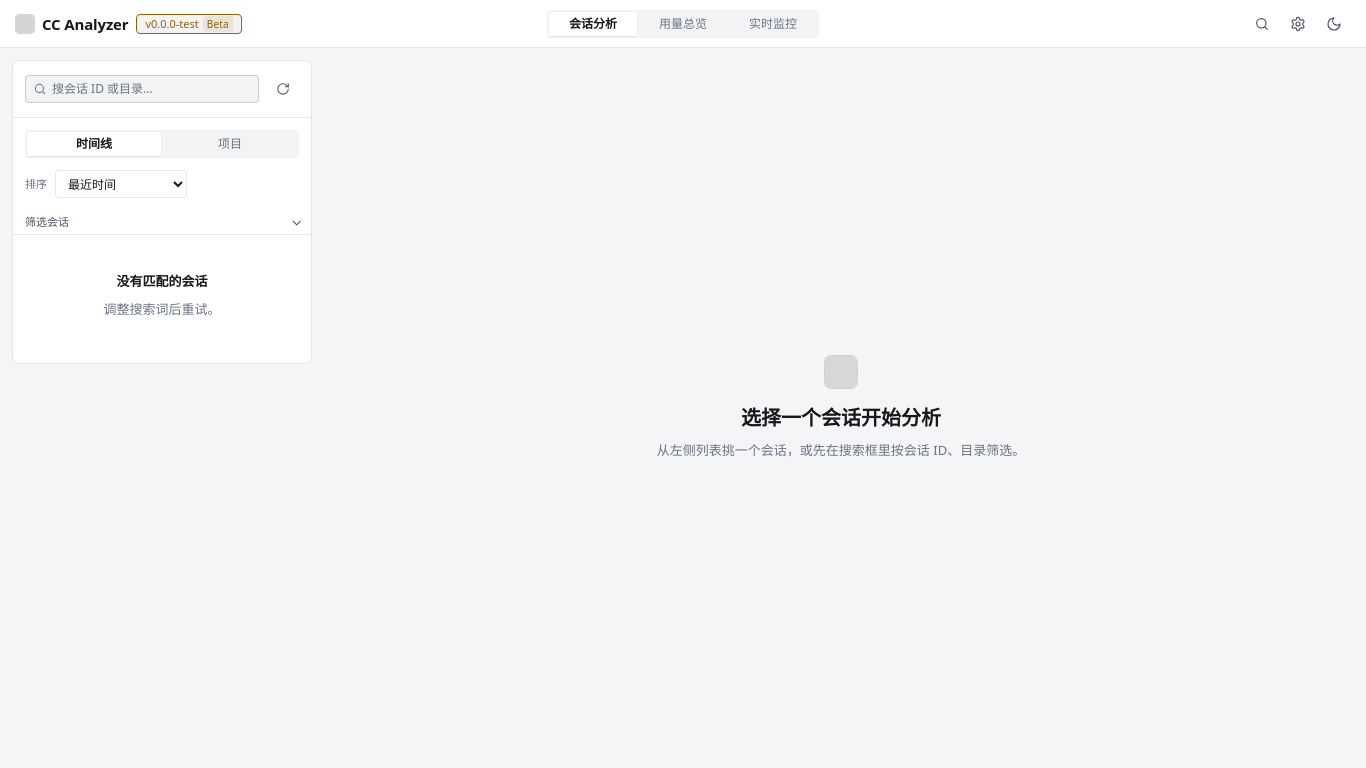
opens and closes the threshold settings panel
What coordinates should you click on to do the following:
click the button named "设置"
I would click on:
 (1298, 24)
Its box is [1282,8,1314,40].
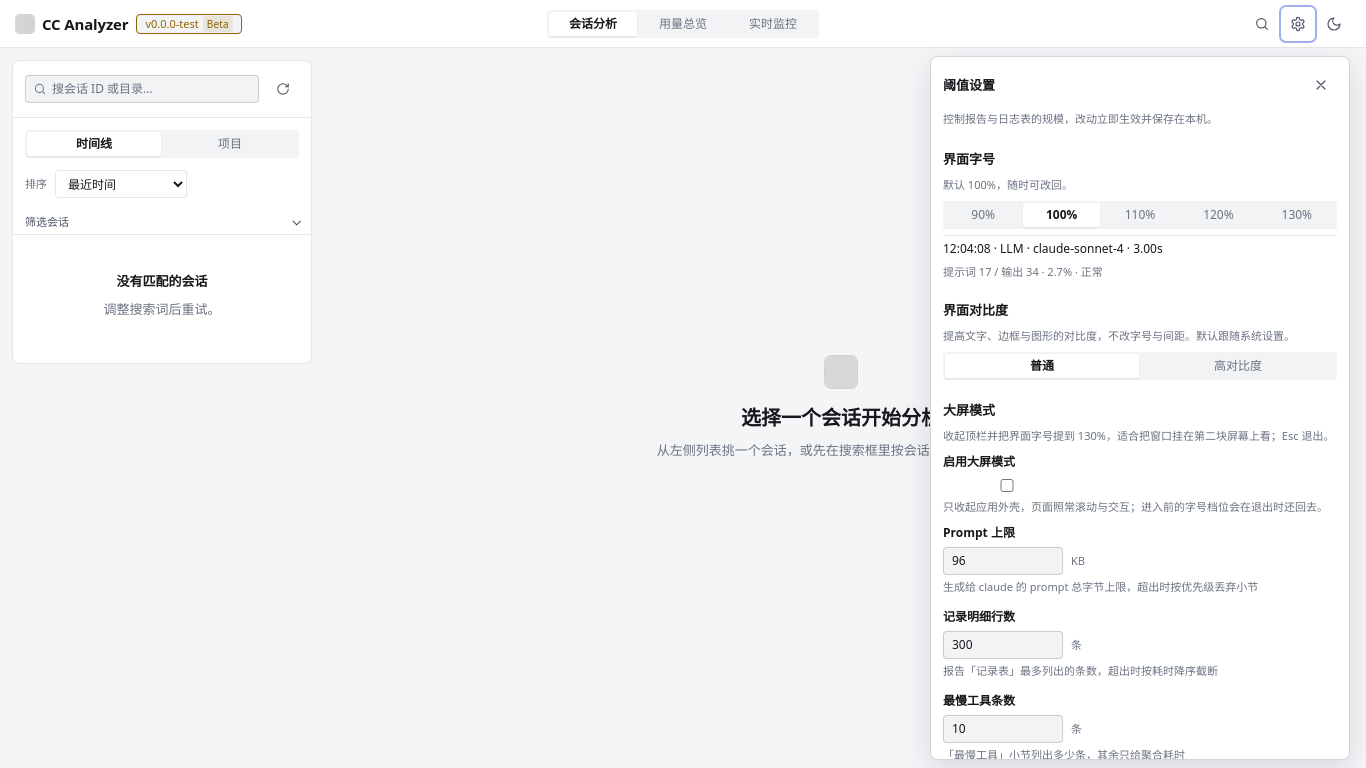
Expected: the heading "阈值设置" is shown, [943,75,995,95]
What coordinates should you click on to do the following:
click the button named "关闭"
I would click on:
 (1321, 85)
Its box is [1305,69,1337,101].
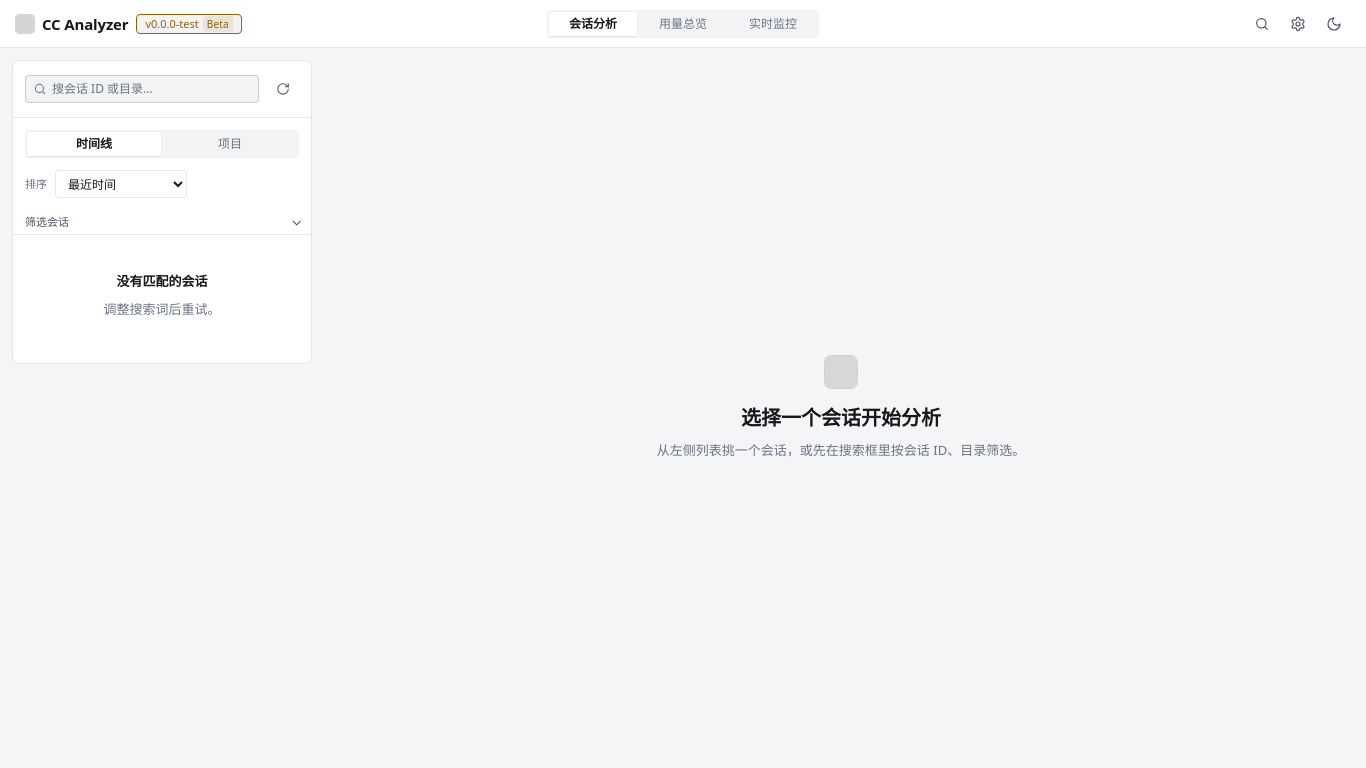
Expected: the heading "阈值设置" is gone
